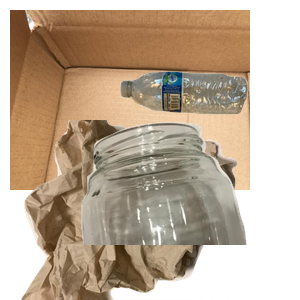cardboard: (10, 10, 250, 190)
glass: (74, 120, 300, 300)
plastic: (118, 69, 300, 176)
trash: (19, 120, 249, 300)
